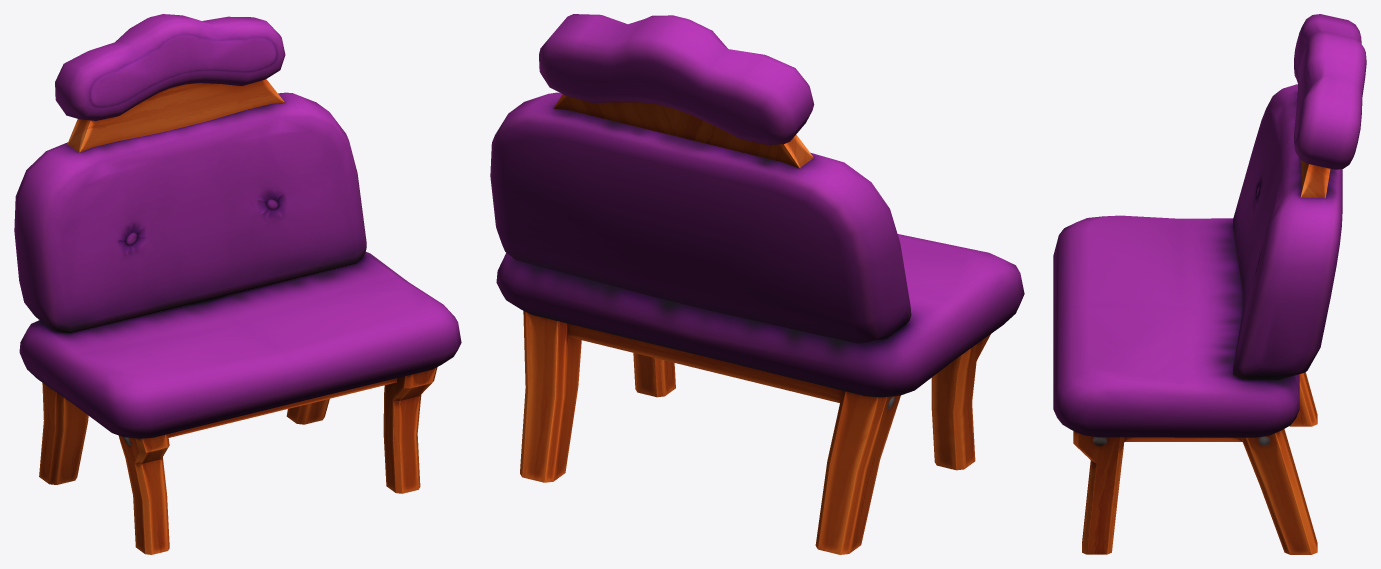
The model's file is ArmChair03.FBX.
The picture shows the model from 3 angles, left to right: view 1: azimuth 30°, elevation 25°; view 2: azimuth 150°, elevation 25°; view 3: azimuth 270°, elevation 25°; orthographic projection. The views are drawn at different scales.
Visible parts, largest first — view 1: ArmChair03; view 2: ArmChair03; view 3: ArmChair03.
Boxes of the visible parts, x1,y1,x2,y2 form: ArmChair03: (14,14,461,554); ArmChair03: (490,14,1024,554); ArmChair03: (1053,14,1366,554).
Size of what is drawn, in the model's own units: 0.9953 by 1.14 by 0.7255.
